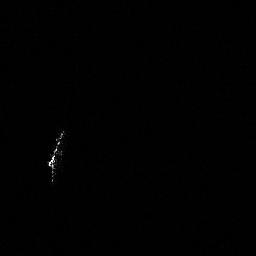ship: (47, 128, 67, 185)
